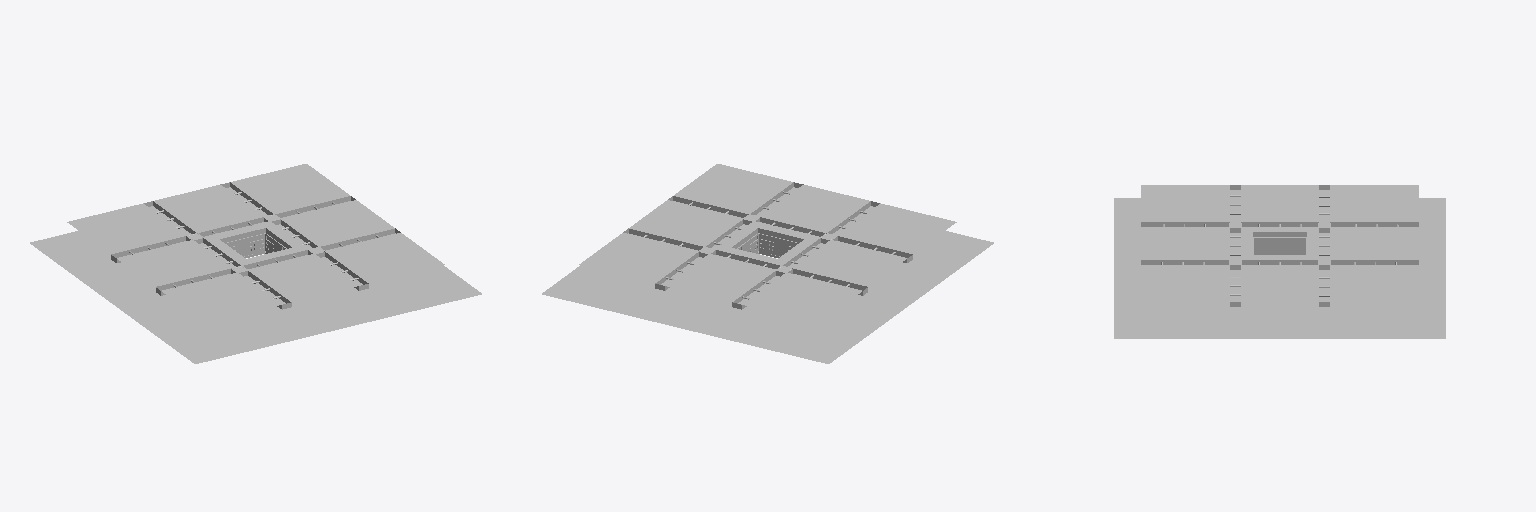
The model's file is wall_four_low.obj.
3 views of the same model, side by side, from view 1: azimuth 30°, elevation 25°; view 2: azimuth 150°, elevation 25°; view 3: azimuth 270°, elevation 25° (orthographic).
Visible parts, largest first — view 1: Wall_Low_Cube.001, PanelCorner_Low_Cube.007, PanelBottom_Low_Cube.006; view 2: Wall_Low_Cube.001, PanelCorner_Low_Cube.007, PanelBottom_Low_Cube.006; view 3: Wall_Low_Cube.001, PanelCorner_Low_Cube.007, PanelBottom_Low_Cube.006.
Boxes of the visible parts, x1,y1,x2,y2 form: Wall_Low_Cube.001: [30, 182, 481, 363]; PanelCorner_Low_Cube.007: [67, 164, 444, 322]; PanelBottom_Low_Cube.006: [117, 185, 394, 301]; Wall_Low_Cube.001: [542, 182, 993, 363]; PanelCorner_Low_Cube.007: [579, 164, 956, 322]; PanelBottom_Low_Cube.006: [629, 185, 906, 301]; Wall_Low_Cube.001: [1114, 185, 1445, 338]; PanelCorner_Low_Cube.007: [1141, 185, 1418, 301]; PanelBottom_Low_Cube.006: [1141, 185, 1418, 301].
Size of the model in its own units: 2.4 by 0.2 by 2.4.